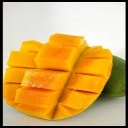mango: (5, 33, 114, 119)
